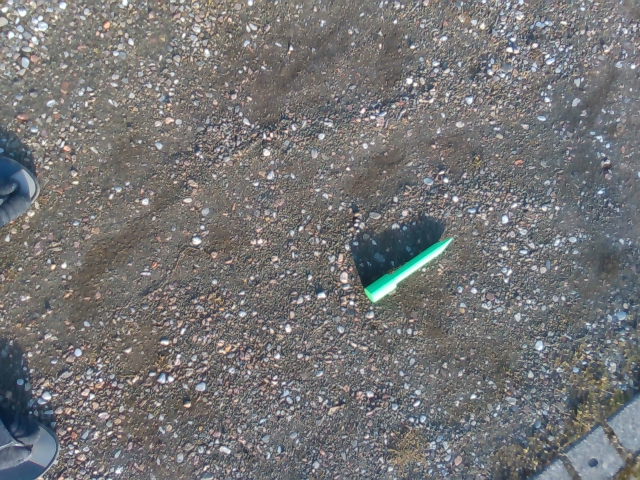Probe: (361, 228, 463, 305)
